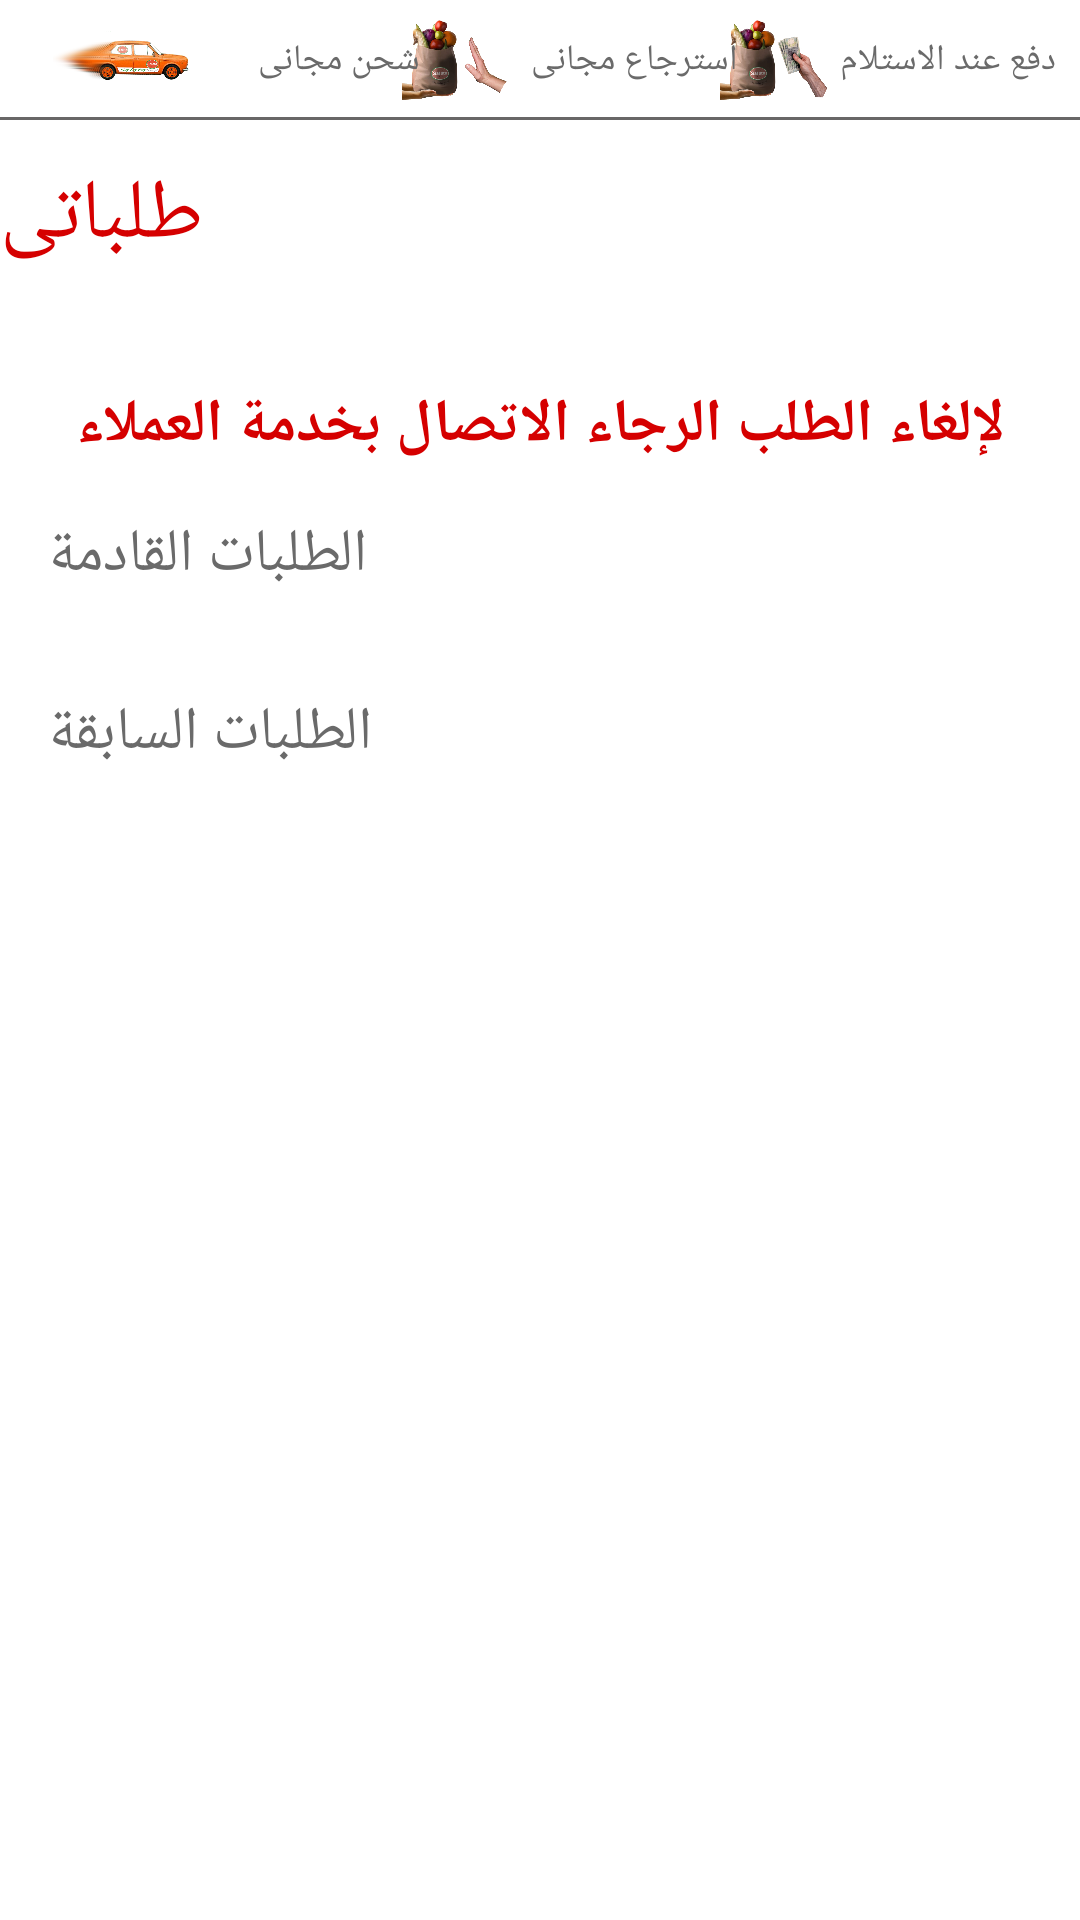

Screen size 1080px x 1920px. Icon name, then its center in pixels as (x=x, y=y):
cash: (x=773, y=60)
freereturn: (x=454, y=60)
